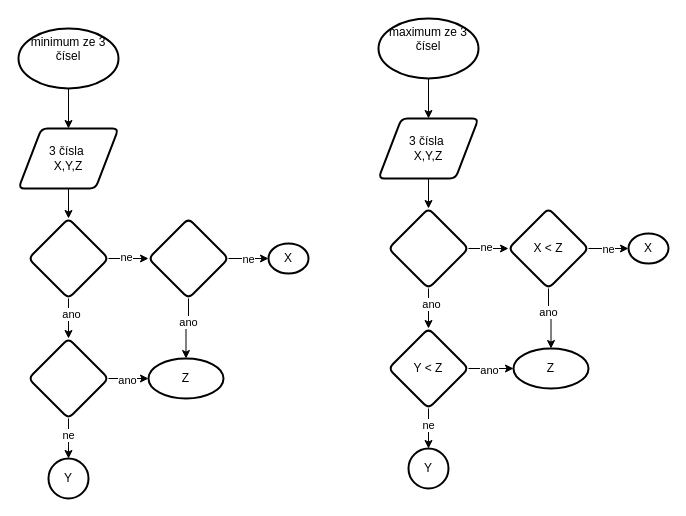
This 686x516 diagram has some shape labels left out. Each missing label, with the box of its shape:
X < Y: (387, 207, 469, 289)
X > Y: (27, 217, 109, 299)
X > Z: (147, 217, 229, 299)
Y > Z: (27, 337, 109, 419)
